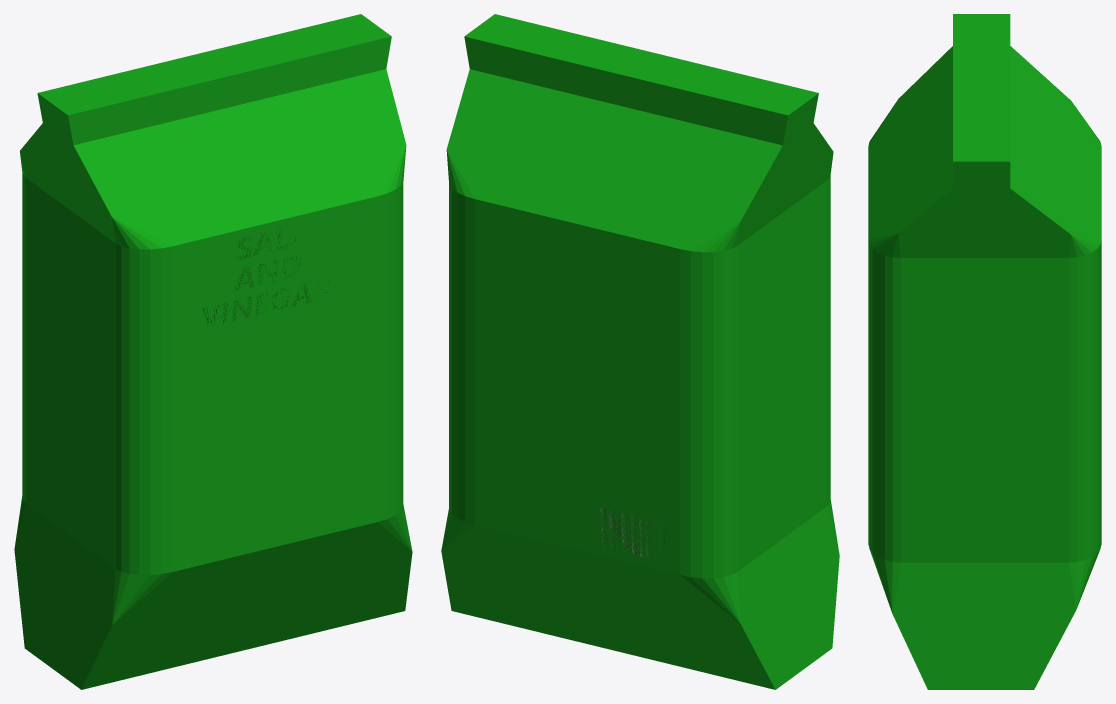
The model's file is salt_and_vinegar.glb.
The picture shows the model from 3 angles, left to right: view 1: azimuth 30°, elevation 25°; view 2: azimuth 150°, elevation 25°; view 3: azimuth 270°, elevation 25°; orthographic projection. The views are drawn at different scales.
Visible parts, largest first — view 1: Cube; view 2: Cube; view 3: Cube.
Part boxes in pixels (x1,y1,x2,y2): Cube: (14, 14, 412, 689); Cube: (441, 14, 839, 689); Cube: (868, 14, 1101, 689).
Size of the model in its own units: 0.3 by 0.5 by 0.2.
Materials: 1 (1 with a texture image).
